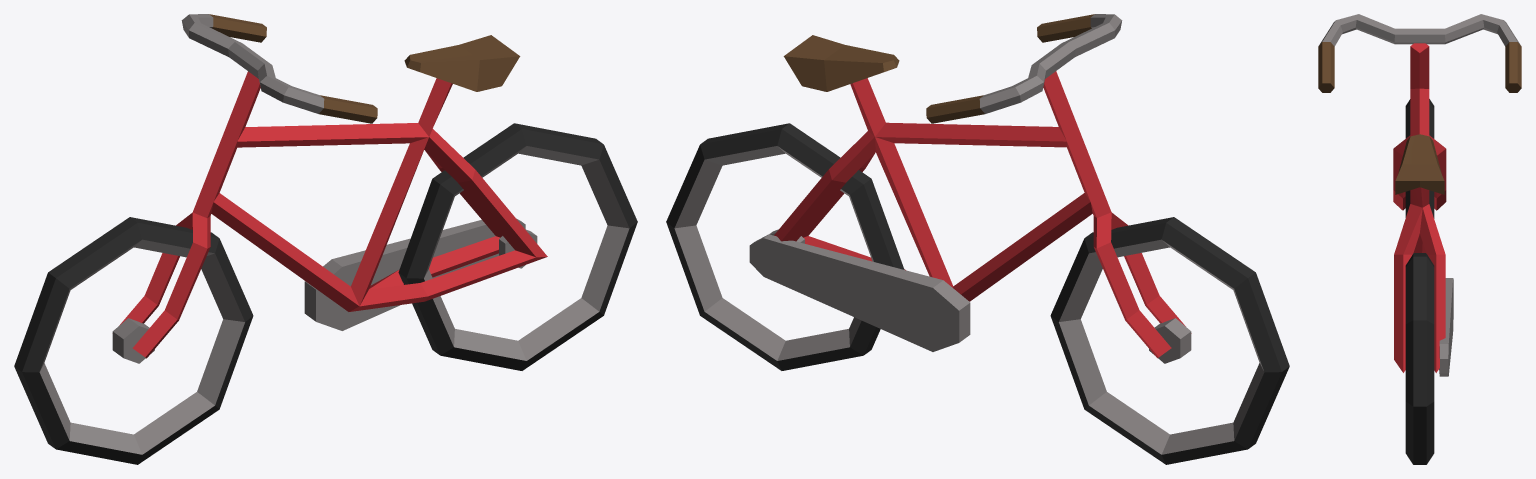
File: Bike.obj
The picture shows the model from 3 angles, left to right: view 1: azimuth 30°, elevation 25°; view 2: azimuth 150°, elevation 25°; view 3: azimuth 270°, elevation 25°; orthographic projection. The views are drawn at different scales.
Parts seen in each view (by area): view 1: bike-old (1); view 2: bike-old (1); view 3: bike-old (1).
Part boxes in pixels (x1=…): bike-old (1): x1=14, y1=14, x2=637, y2=464; bike-old (1): x1=666, y1=14, x2=1289, y2=464; bike-old (1): x1=1318, y1=14, x2=1521, y2=464.
Size of the model in its own units: 1.78 by 1.08 by 0.6035.
